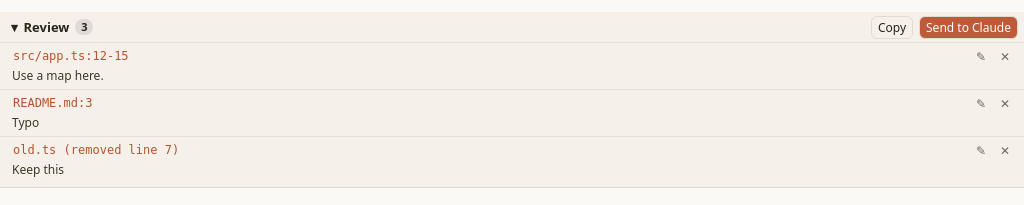
ReviewTray › lists the comments with their locations and notes, and collapses
Click the button "▾ Review 3" at (52, 27), box [4,15,100,39]
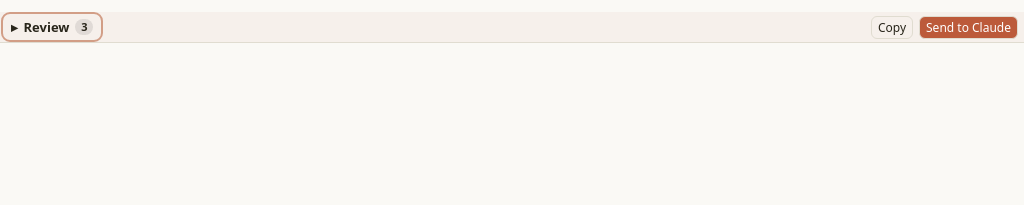
expect the button "▸ Review 3" is collapsed: met, box [4,15,100,39]
expect the list item "src/app.ts:12-15 ✎ ✕ Use a map here." is gone: met
